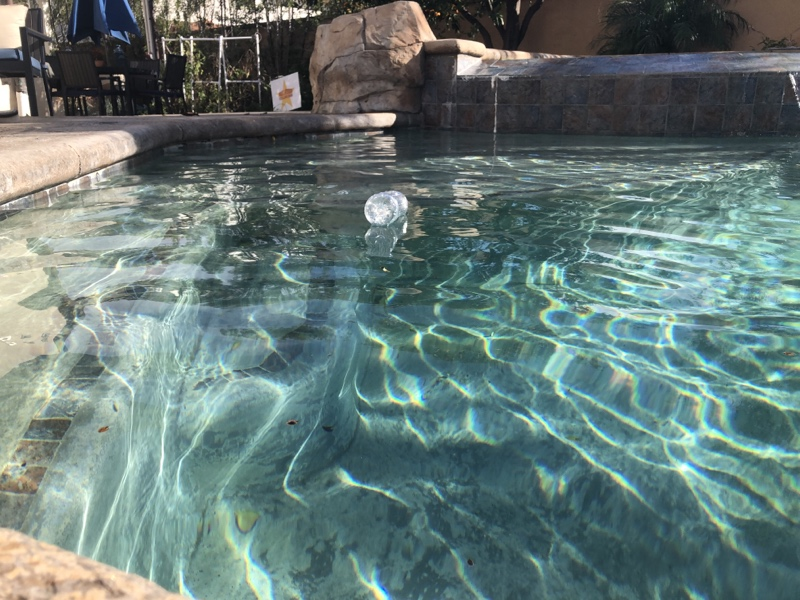Plastic Bottle: (361, 189, 413, 227)
